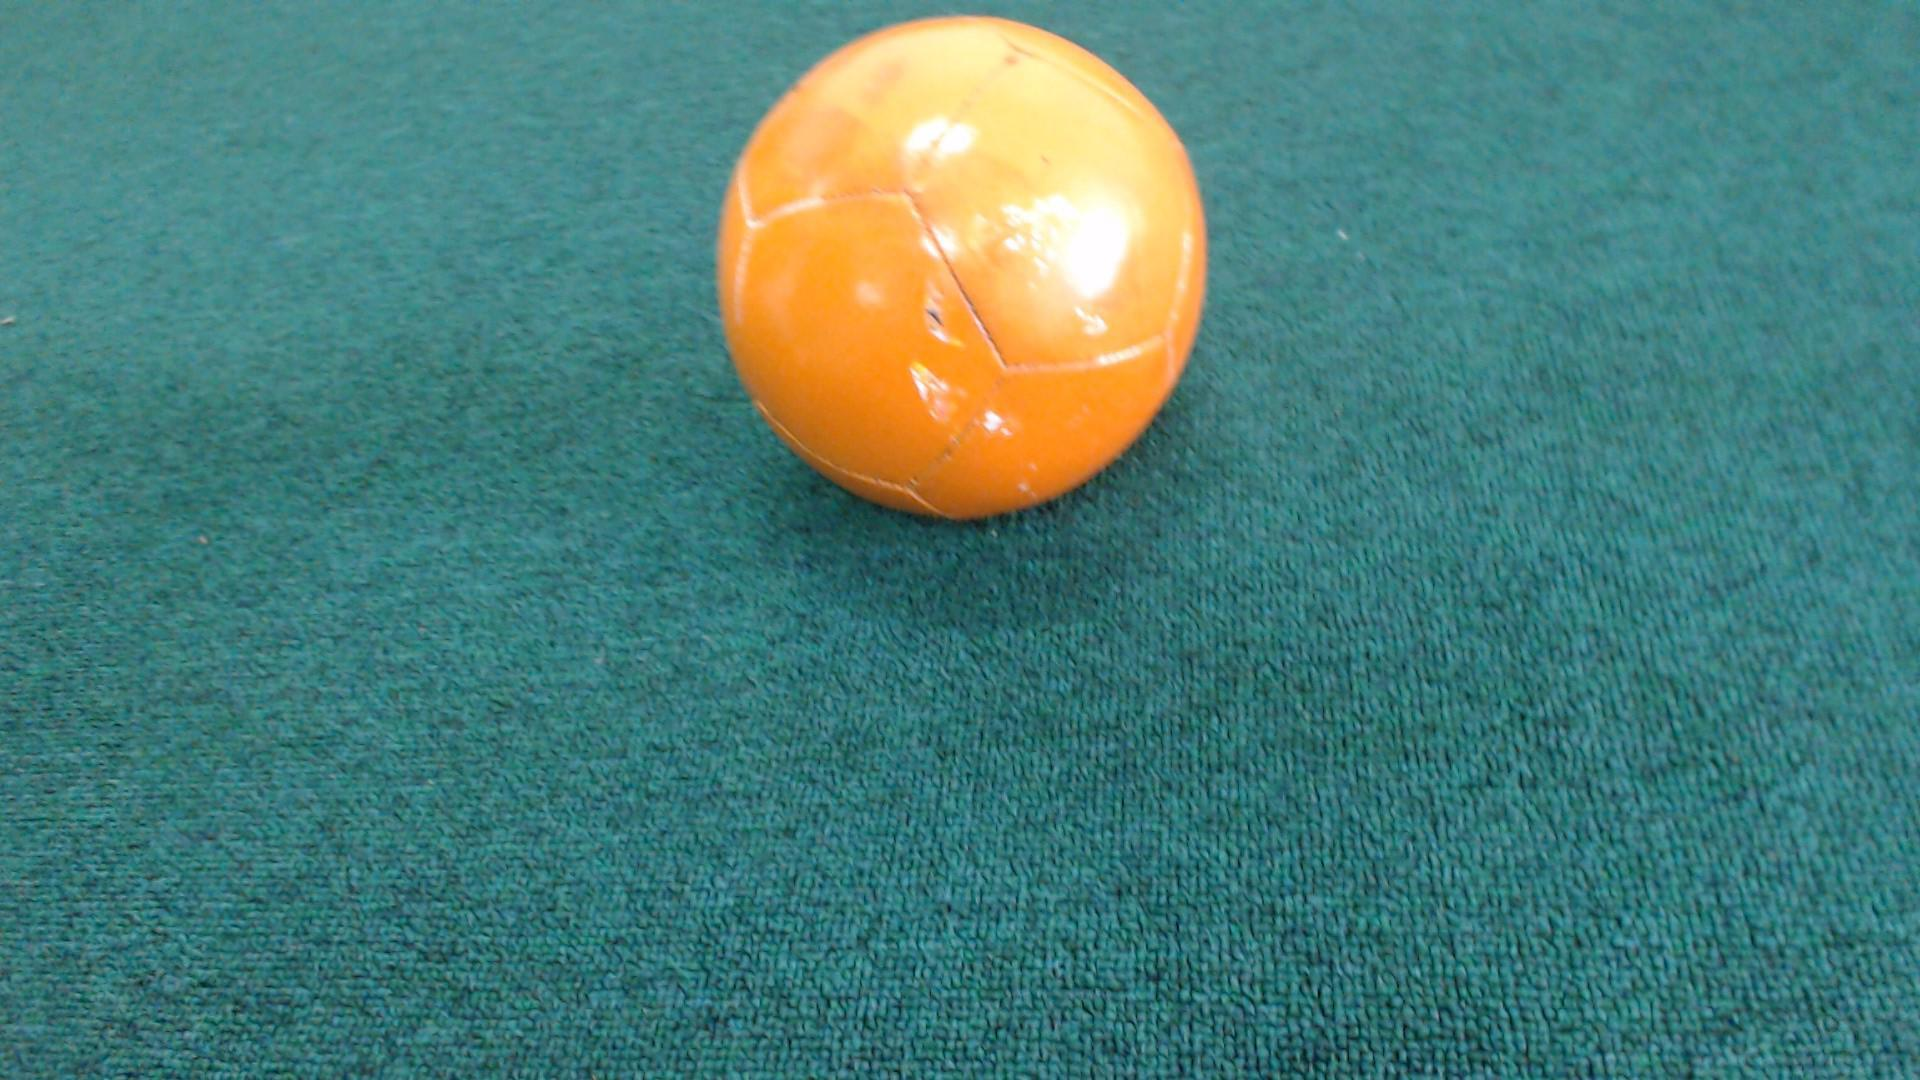bola: (692, 0, 1222, 531)
